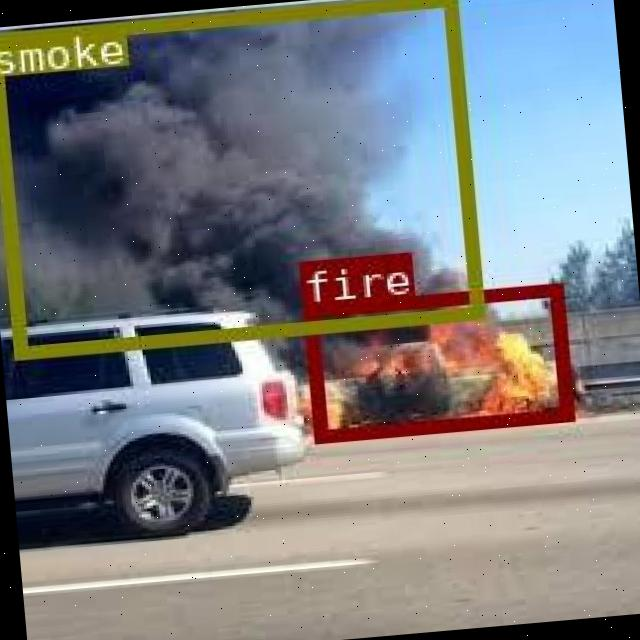fire: (300, 281, 570, 439)
smoke: (0, 0, 480, 357)
